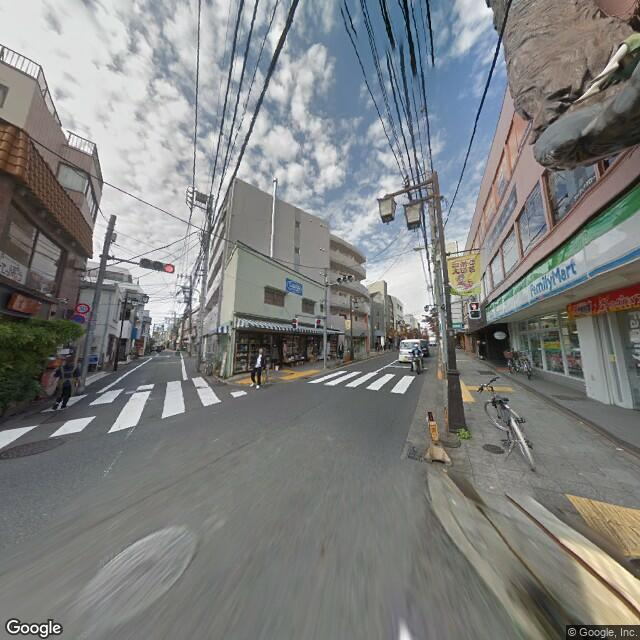family_mart: (484, 181, 638, 322)
